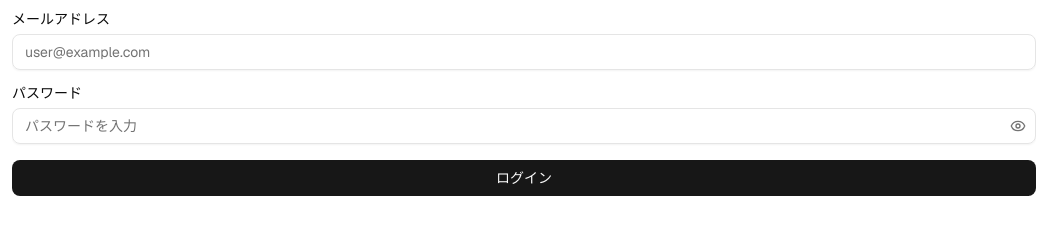
Test: LoginForm › パスワードが8文字未満の場合、バリデーションエラーが表示される
Type "test@example.com" into the field labelled "メールアドレス".
click(524, 52); type("test@example.com")  # box [12,34,1036,70]
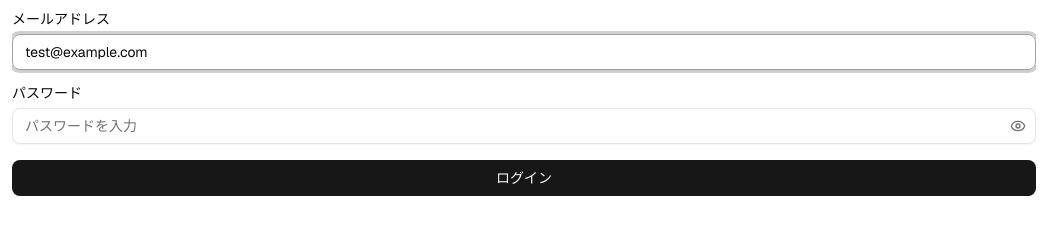
Type "short" into the password field labelled "パスワード".
click(524, 126); type("short")  # box [12,108,1036,144]
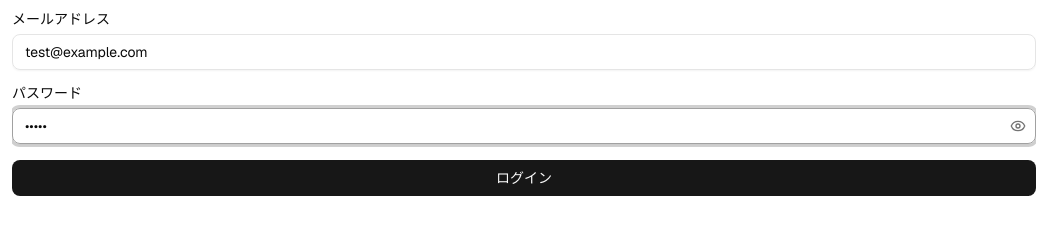
Click the button "ログイン".
click(524, 178)  # box [12,160,1036,196]
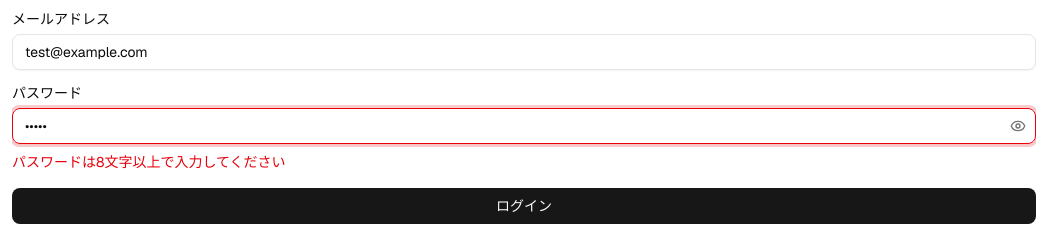
Check: the text "パスワードは8文字以上で入力してください" is shown, box [12,153,286,171]
